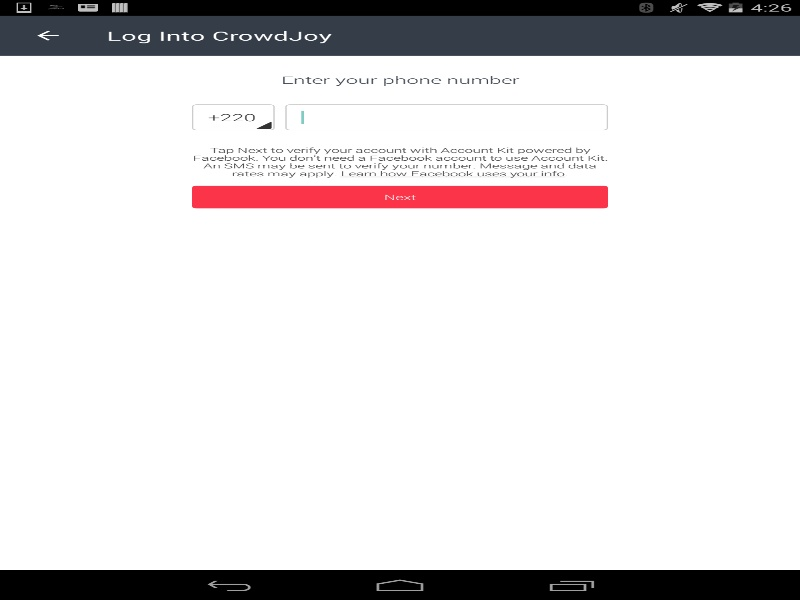Button: (192, 185, 608, 208), (10, 15, 85, 55)
Input: (285, 104, 608, 130)
